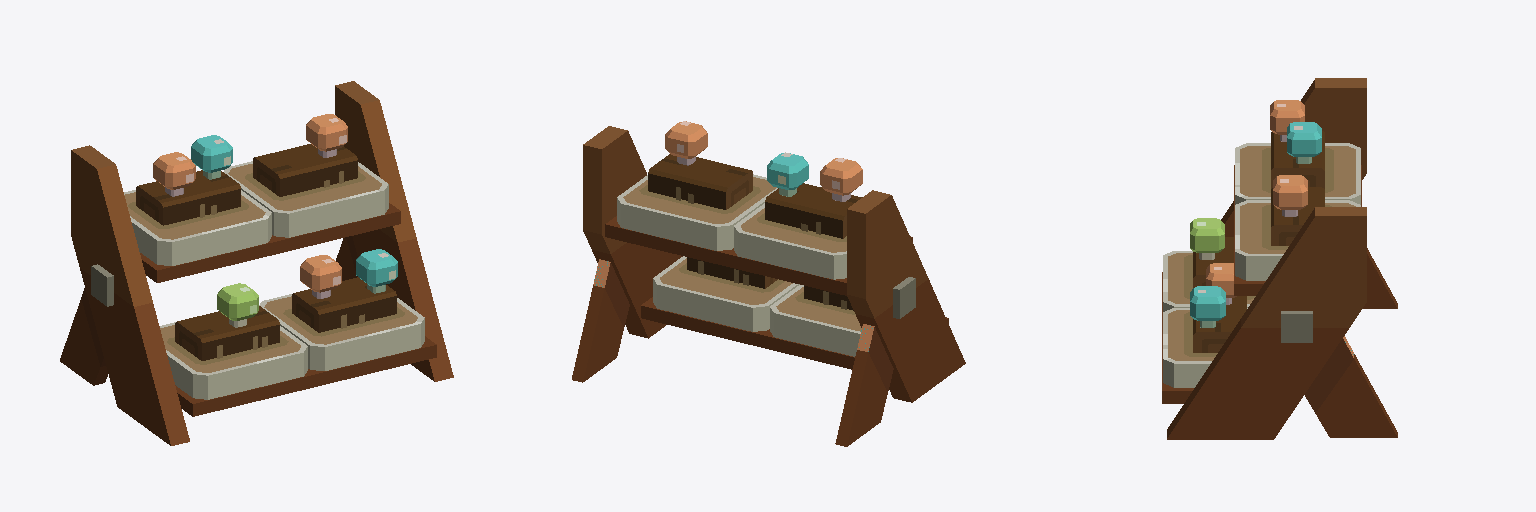
The picture shows the model from 3 angles: view 1: azimuth 30°, elevation 25°; view 2: azimuth 150°, elevation 25°; view 3: azimuth 270°, elevation 25°; orthographic projection.
Visible parts, largest first — view 1: gdShrubRack_Rack, gdShrubRack_Shrub1L, gdShrubRack_Shrub0R, gdShrubRack_Shrub1R, gdShrubRack_Shrub0L; view 2: gdShrubRack_Rack, gdShrubRack_Shrub1R, gdShrubRack_Shrub1L, gdShrubRack_Shrub0R, gdShrubRack_Shrub0L; view 3: gdShrubRack_Rack, gdShrubRack_Shrub1L, gdShrubRack_Shrub0R, gdShrubRack_Shrub1R, gdShrubRack_Shrub0L.
Boxes of the visible parts, x1=… form: gdShrubRack_Rack: x1=60, y1=81, x2=453, y2=445; gdShrubRack_Shrub1L: x1=124, y1=135, x2=271, y2=265; gdShrubRack_Shrub0R: x1=259, y1=249, x2=424, y2=370; gdShrubRack_Shrub1R: x1=224, y1=114, x2=388, y2=237; gdShrubRack_Shrub0L: x1=160, y1=283, x2=307, y2=399; gdShrubRack_Rack: x1=572, y1=126, x2=965, y2=446; gdShrubRack_Shrub1R: x1=617, y1=121, x2=777, y2=250; gdShrubRack_Shrub1L: x1=734, y1=152, x2=862, y2=279; gdShrubRack_Shrub0R: x1=653, y1=256, x2=799, y2=331; gdShrubRack_Shrub0L: x1=770, y1=285, x2=861, y2=356; gdShrubRack_Rack: x1=1162, y1=78, x2=1397, y2=439; gdShrubRack_Shrub1L: x1=1235, y1=100, x2=1360, y2=204; gdShrubRack_Shrub0R: x1=1163, y1=263, x2=1247, y2=387; gdShrubRack_Shrub1R: x1=1235, y1=175, x2=1360, y2=280; gdShrubRack_Shrub0L: x1=1163, y1=218, x2=1255, y2=311.
Bounding box in the file's own units: 5.37 × 3.96 × 3.69.
Materials: 1 (1 with a texture image).